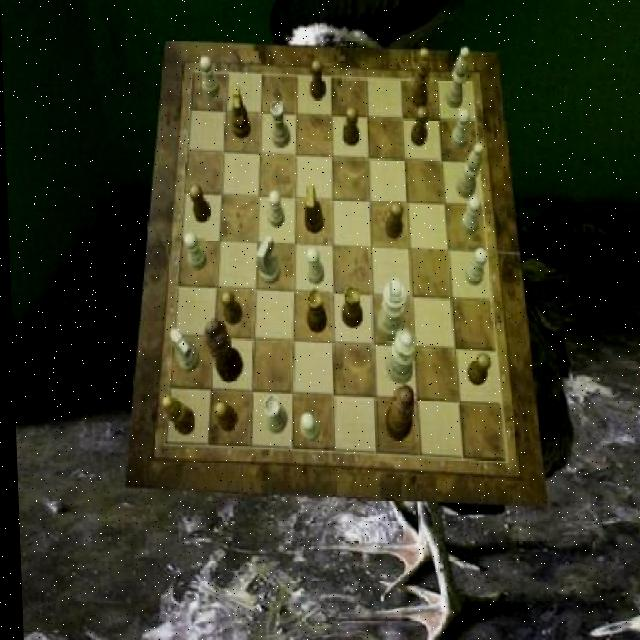bishop: (407, 49, 430, 109), (159, 397, 193, 437)
black-bishop: (201, 318, 240, 382)
black-king: (229, 84, 250, 138), (301, 187, 322, 236)
black-knight: (463, 354, 488, 388), (187, 185, 209, 223), (409, 106, 429, 146), (217, 291, 240, 325), (210, 400, 234, 432), (382, 202, 402, 239), (340, 106, 358, 146), (309, 60, 326, 102)
black-pawn: (379, 384, 413, 440)
black-queen: (302, 289, 324, 333), (338, 285, 361, 327)
black-rook: (454, 143, 484, 199), (443, 46, 469, 109)
white-bishop: (371, 277, 405, 339)
white-king: (168, 329, 197, 373), (253, 236, 277, 284)
white-knight: (462, 248, 487, 285), (182, 232, 205, 271), (449, 108, 470, 149), (458, 195, 479, 234), (199, 57, 218, 98), (304, 246, 322, 284), (266, 189, 284, 227), (295, 414, 316, 441)
white-pawn: (380, 329, 414, 384)
white-queen: (269, 100, 290, 148), (261, 395, 285, 434)
